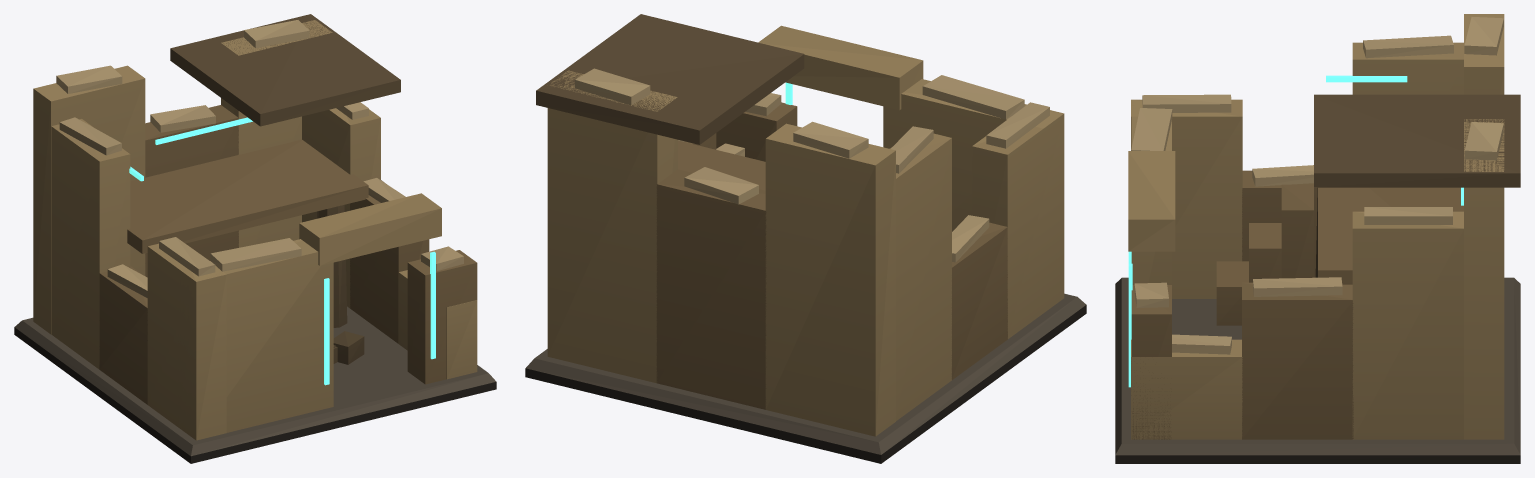
Rendered from temple-shrine.glb.
The picture shows the model from 3 angles, left to right: view 1: azimuth 30°, elevation 25°; view 2: azimuth 150°, elevation 25°; view 3: azimuth 270°, elevation 25°; orthographic projection. The views are drawn at different scales.
Size of the model in its own units: 5 by 4 by 5.
